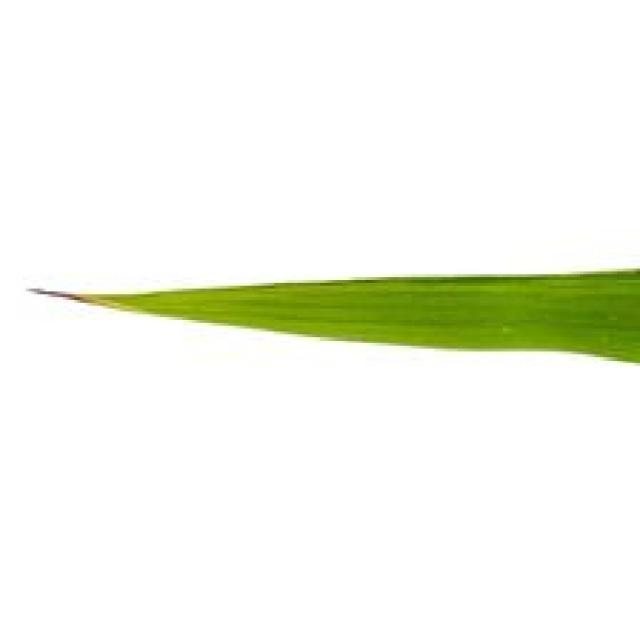Rice___Healthy_Rice_Plant: (31, 267, 637, 372)
